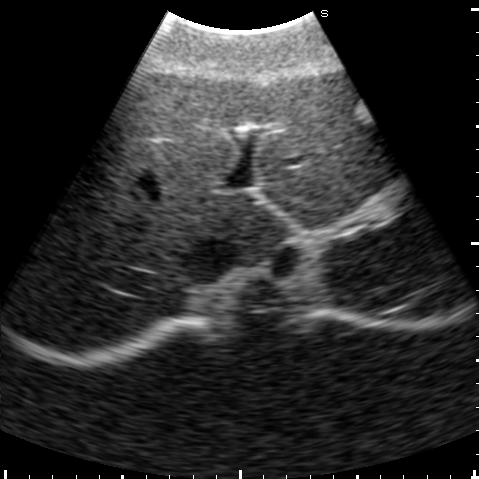IVC: (177, 235, 241, 283)
S1: (225, 194, 293, 261)
S2: (262, 161, 400, 228)
S3: (237, 70, 393, 202)
Tumor: (353, 101, 371, 124)
